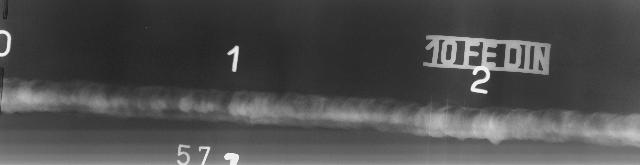FF: (8, 74, 136, 95), (2, 107, 144, 125), (150, 108, 272, 128)
IE: (522, 130, 536, 138)
PO: (488, 111, 490, 114), (498, 120, 500, 122)
